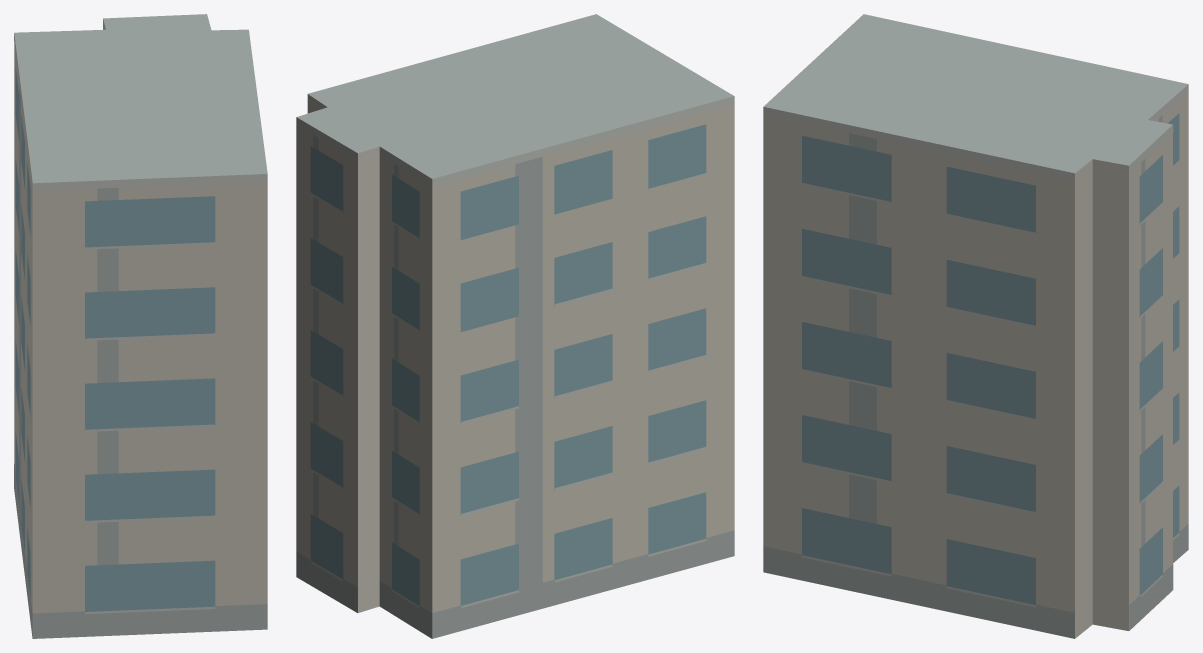
Rendered from survey-upis-32727053.glb.
3 views of the same model, side by side, from view 1: azimuth 30°, elevation 25°; view 2: azimuth 150°, elevation 25°; view 3: azimuth 270°, elevation 25° (orthographic). The views are drawn at different scales.
Visible parts, largest first — view 1: survey-upis-32727053.tmp; view 2: survey-upis-32727053.tmp; view 3: survey-upis-32727053.tmp.
Boxes of the visible parts, box(x1,y1,x2,y2) form: survey-upis-32727053.tmp: box(14, 14, 267, 638); survey-upis-32727053.tmp: box(296, 14, 734, 638); survey-upis-32727053.tmp: box(763, 14, 1188, 638).
Size of the model in its own units: 10.36 by 14.1 by 11.68.
